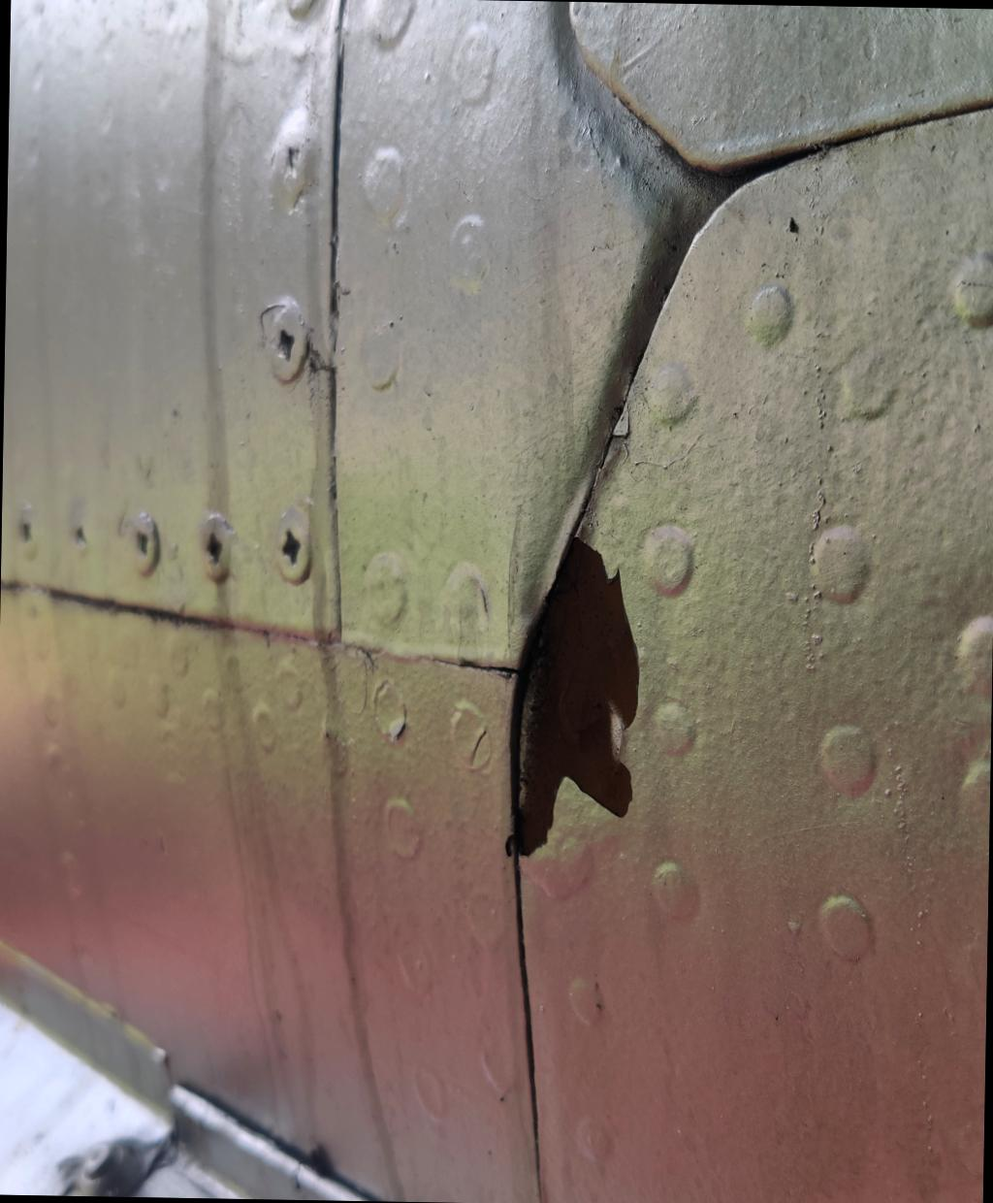corrosion: (504, 523, 650, 853)
